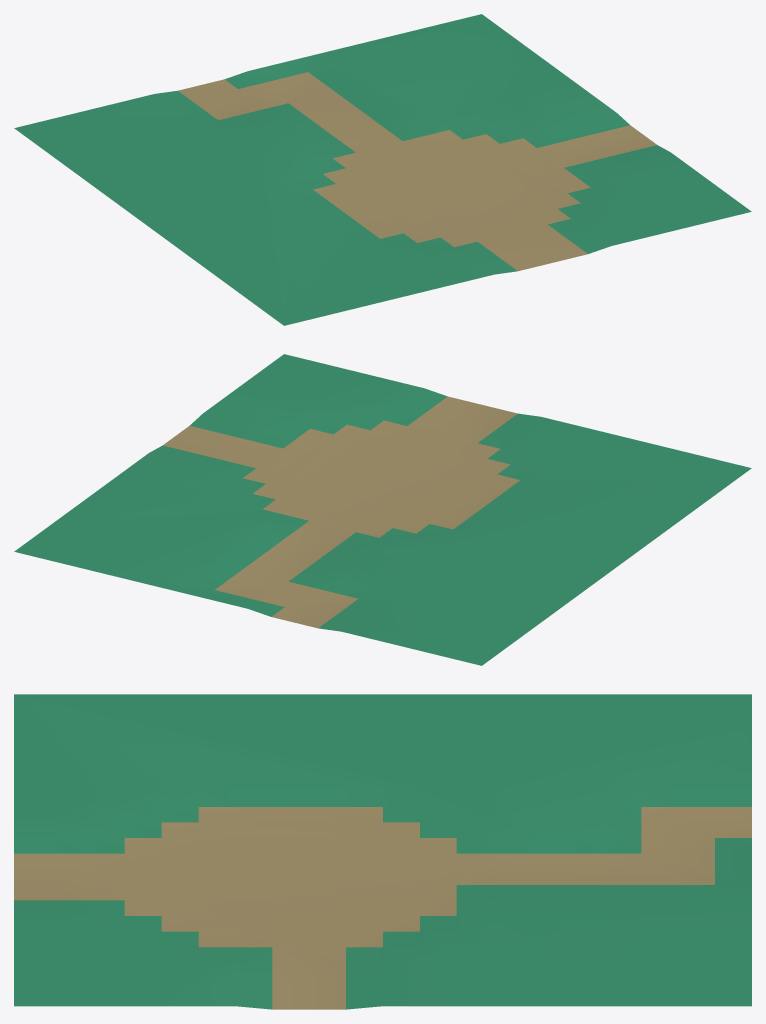
The model's file is park_ground_sw.glb.
The picture shows the model from 3 angles, top to bottom: view 1: azimuth 30°, elevation 25°; view 2: azimuth 150°, elevation 25°; view 3: azimuth 270°, elevation 25°; orthographic projection. The views are drawn at different scales.
Visible parts, largest first — view 1: park_ground_sw; view 2: park_ground_sw; view 3: park_ground_sw.
Part boxes in pixels (box(x1,y1,x2,y2)): park_ground_sw: box(14, 14, 751, 325); park_ground_sw: box(14, 354, 751, 665); park_ground_sw: box(14, 694, 751, 1009).
Bounding box in the file's own units: 40 × 0.2 × 40.
1 material, 1 textured.
